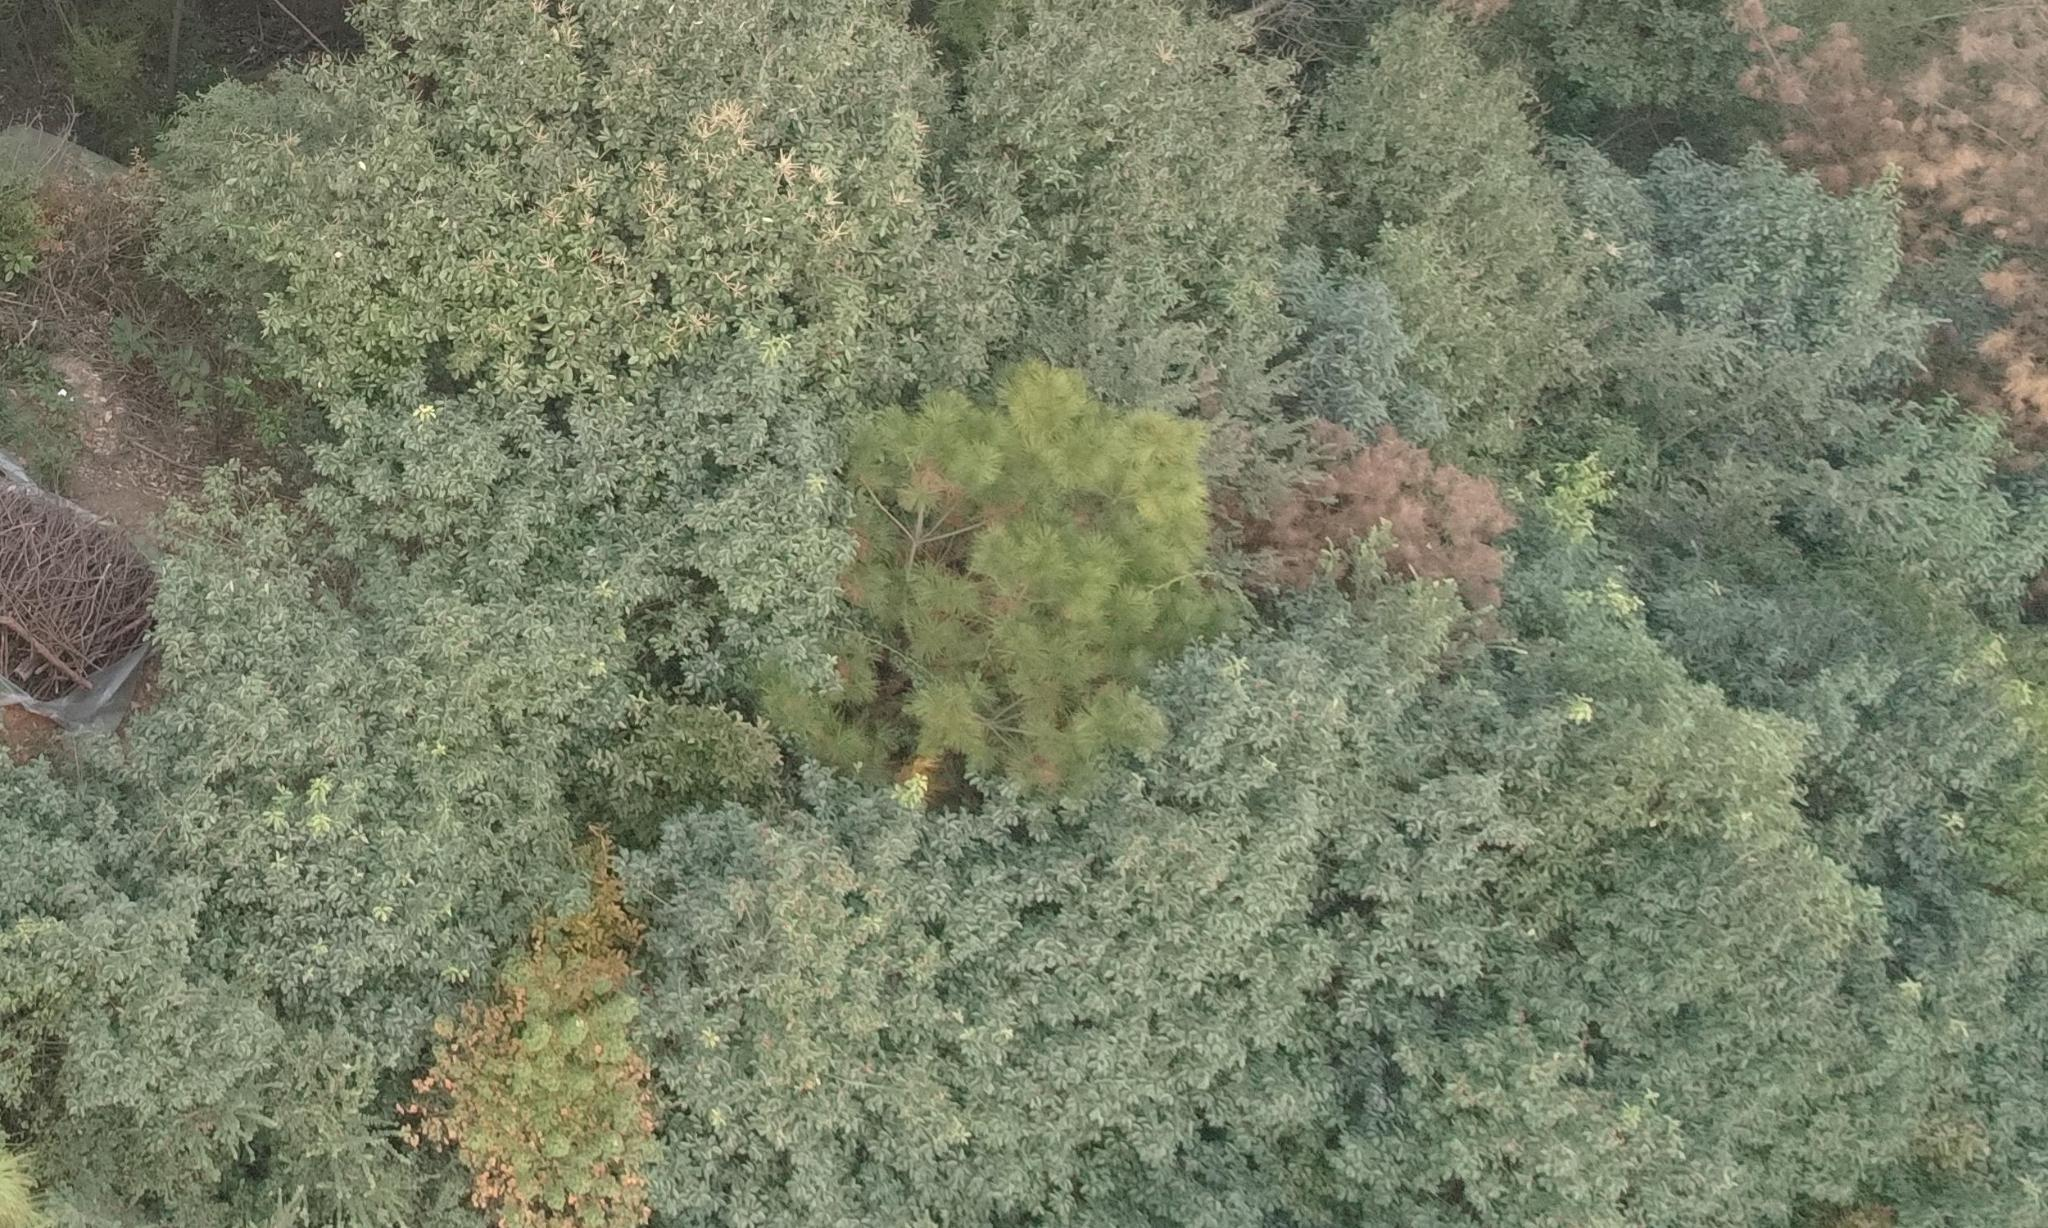heavy: (1750, 15, 2036, 424), (1263, 421, 1513, 618)
light: (823, 409, 1167, 800), (401, 921, 648, 1215)
